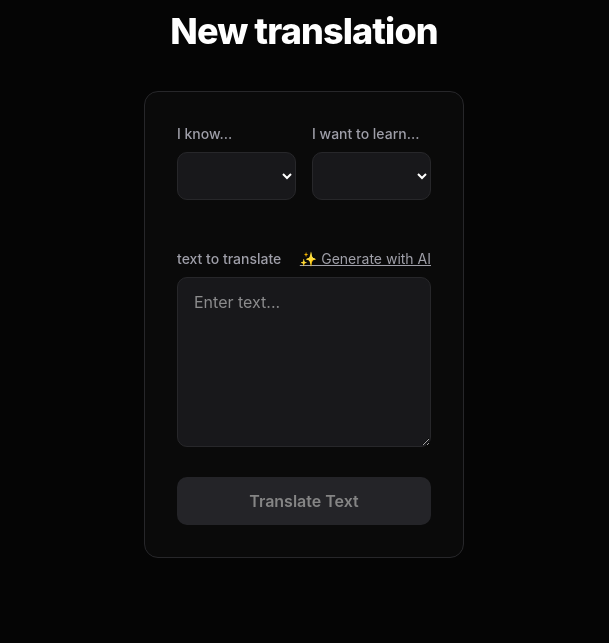
Scenario: Submit › allows switching between manual and generate modes
Click the button "✨ Generate with AI".
click(365, 258)  # box [300,248,431,269]
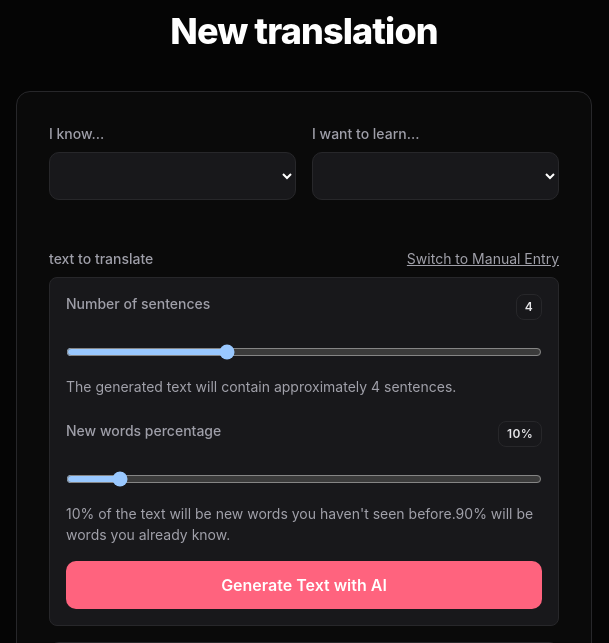
expect the text "New words percentage" is shown: met, box [66,421,221,447]
expect the button "Generate Text with AI" is shown: met, box [66,561,542,609]
